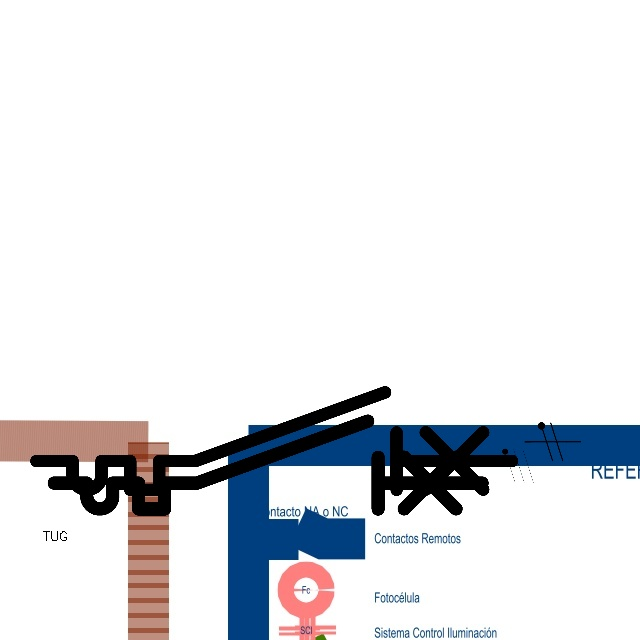interruptor_termomagnetico: (24, 380, 524, 502), (43, 410, 493, 520)
